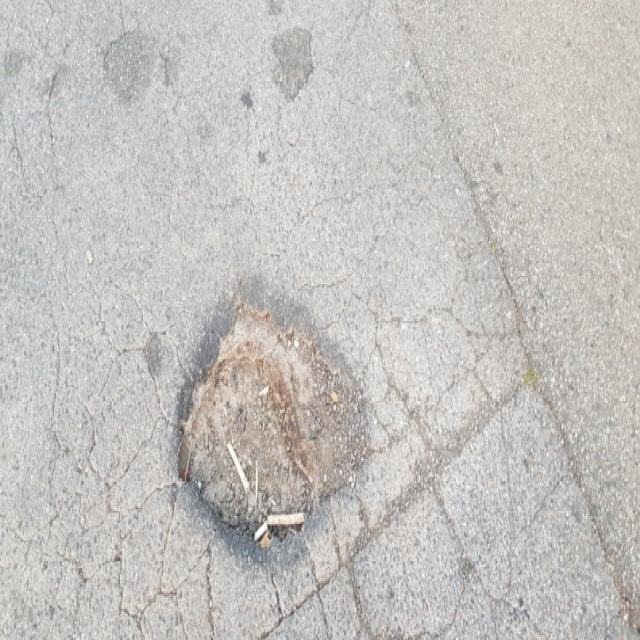pothole: (172, 277, 378, 565)
